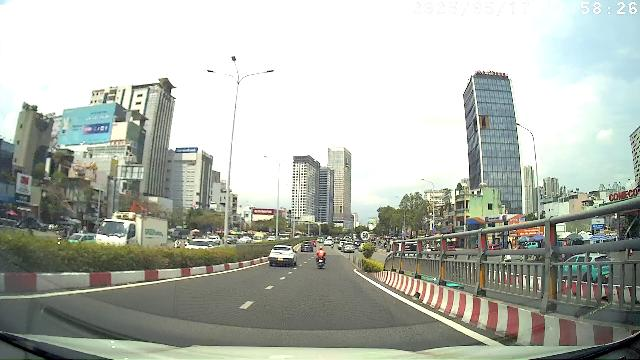134-het-han-che-toc-do-toi-da: (360, 230, 370, 240)
